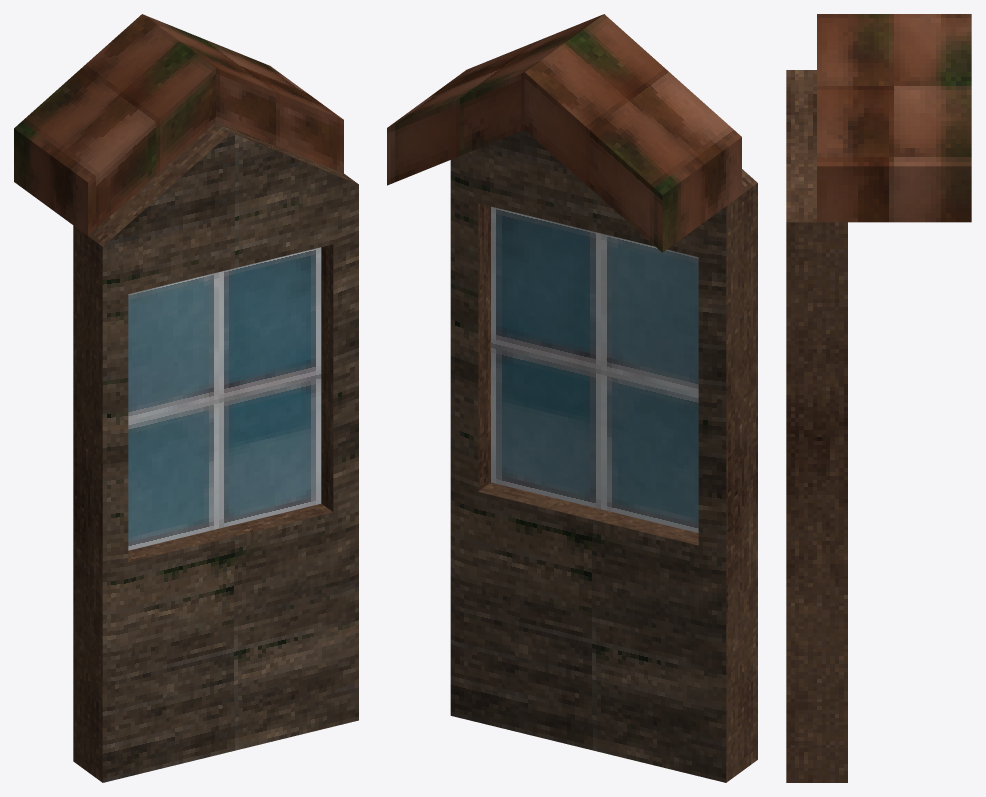
File: roof_02_top_window_03.glb
3 views of the same model, side by side, from view 1: azimuth 30°, elevation 25°; view 2: azimuth 150°, elevation 25°; view 3: azimuth 270°, elevation 25° (orthographic). The views are drawn at different scales.
Parts seen in each view (by area): view 1: roof_02_top_window_032, window_attic_03_002; view 2: roof_02_top_window_032, window_attic_03_002; view 3: roof_02_top_window_032.
Boxes of the visible parts, x1,y1,x2,y2 form: roof_02_top_window_032: (14,14,358,782); window_attic_03_002: (128,247,321,550); roof_02_top_window_032: (387,14,757,782); window_attic_03_002: (491,206,698,532); roof_02_top_window_032: (786,14,971,782).
Size of the model in its own units: 1 by 2.51 by 0.6.
2 materials, 2 textured.
